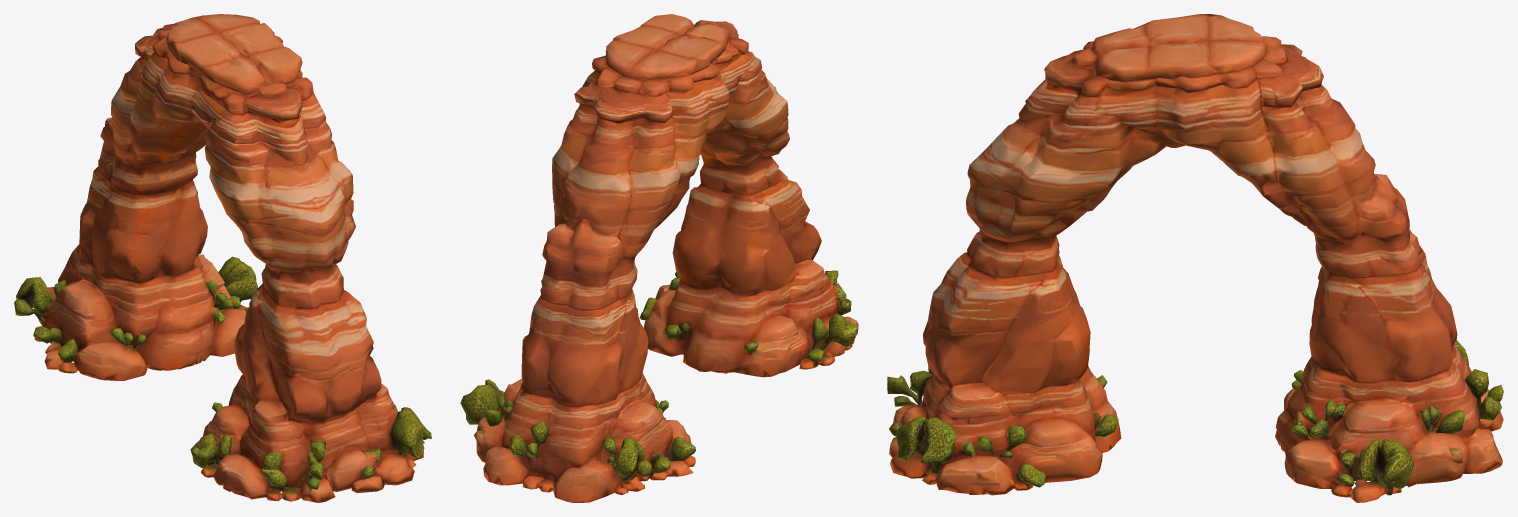
File: arch.glb
The picture shows the model from 3 angles, left to right: view 1: azimuth 30°, elevation 25°; view 2: azimuth 150°, elevation 25°; view 3: azimuth 270°, elevation 25°; orthographic projection. The views are drawn at different scales.
Parts seen in each view (by area): view 1: tripo_node_27a6225e-3ecb-44cf-b4a1-6338d4f90b62; view 2: tripo_node_27a6225e-3ecb-44cf-b4a1-6338d4f90b62; view 3: tripo_node_27a6225e-3ecb-44cf-b4a1-6338d4f90b62.
Part boxes in pixels (left/top/right/bottom): tripo_node_27a6225e-3ecb-44cf-b4a1-6338d4f90b62: left=14, top=14, right=431, bottom=502; tripo_node_27a6225e-3ecb-44cf-b4a1-6338d4f90b62: left=460, top=14, right=858, bottom=502; tripo_node_27a6225e-3ecb-44cf-b4a1-6338d4f90b62: left=887, top=14, right=1503, bottom=502.
Size of the model in its own units: 0.4883 by 0.7276 by 1.
1 material, 1 textured.
